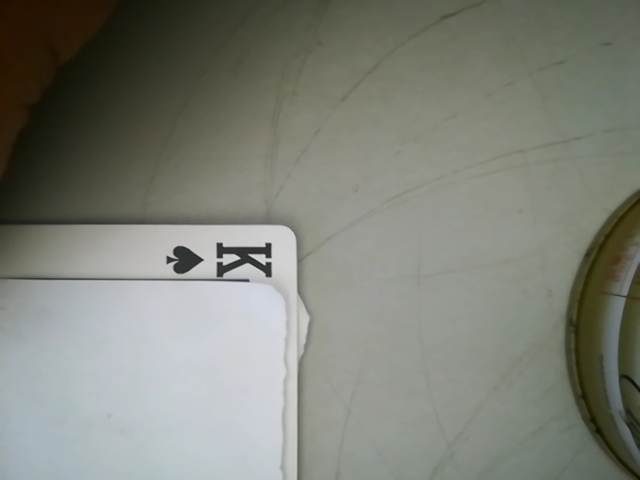ht k: (149, 228, 290, 288)
